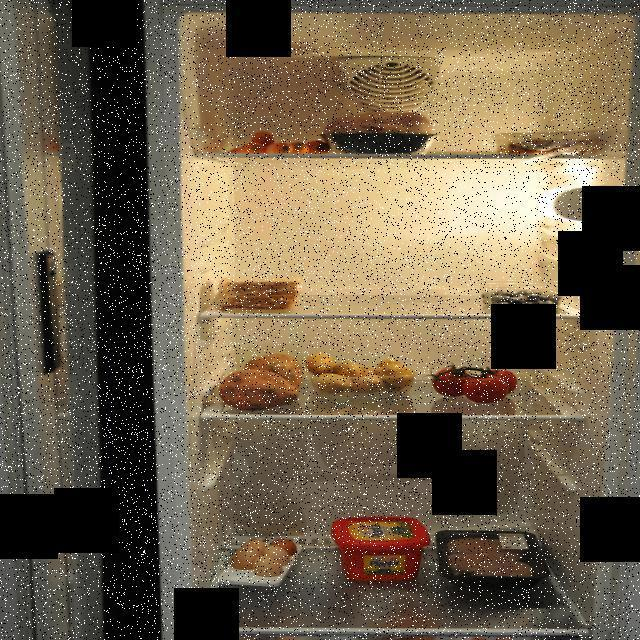Berries strawberries/blueberries: (480, 287, 564, 312)
Butter stick/block: (332, 515, 432, 583)
Carrot: (228, 128, 330, 156)
Chicken: (436, 532, 546, 598), (324, 107, 438, 157)
Potato: (300, 354, 416, 396)
Shrimp: (498, 134, 600, 156)
Sweet Potato: (220, 353, 302, 413)
Tomato: (426, 361, 518, 405)
